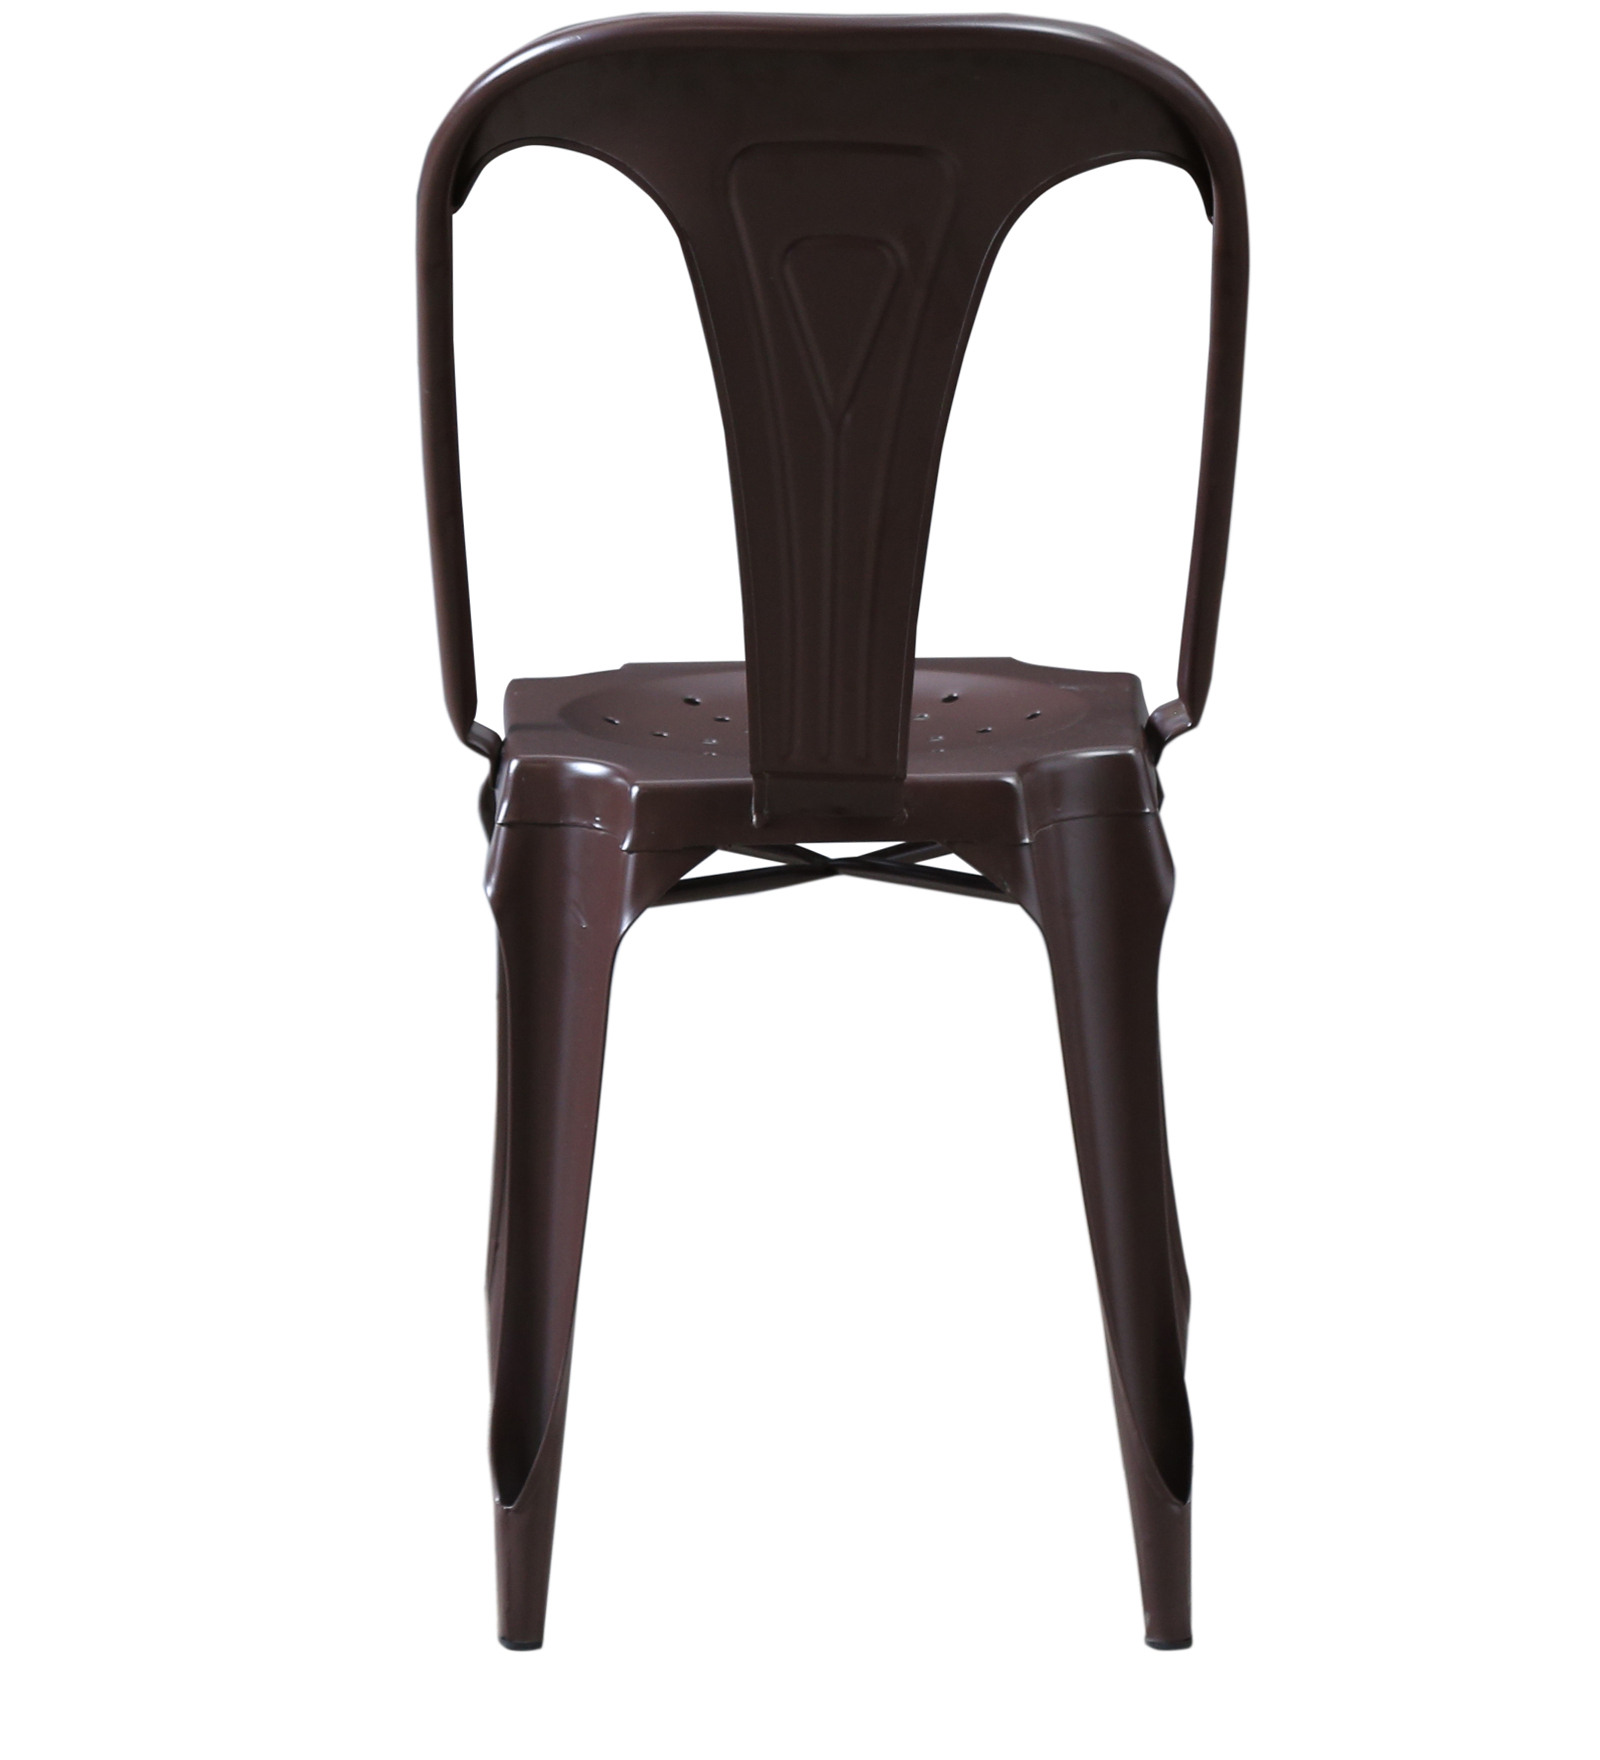Amos Metal Chair in Brown Color by Bohemiana: (363, 9, 1260, 1685)
